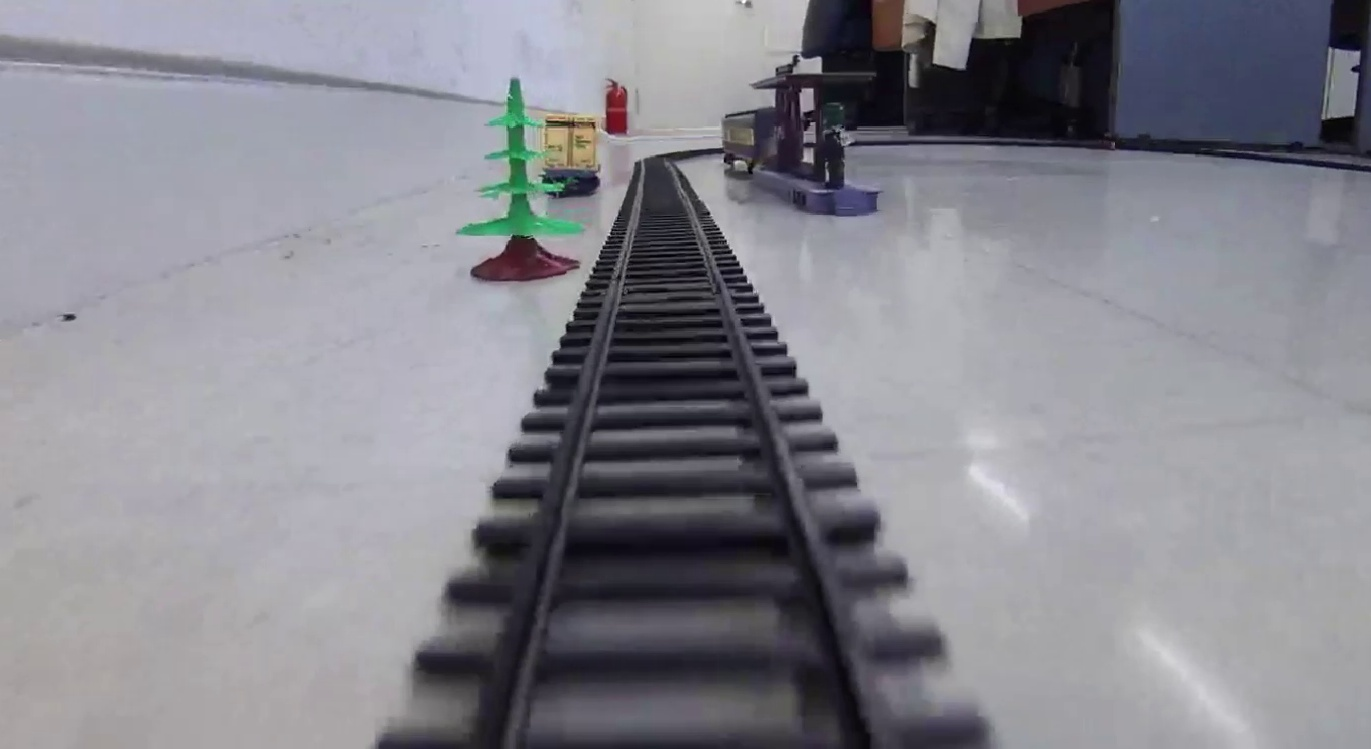tree: (459, 75, 578, 277)
